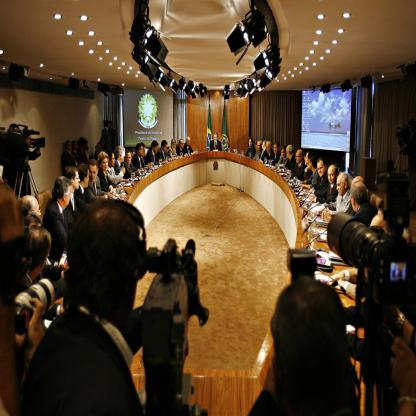face: (370, 219, 383, 242), (33, 202, 43, 226), (74, 172, 82, 191), (337, 178, 345, 196), (65, 187, 72, 204), (318, 162, 325, 177), (90, 167, 97, 182), (352, 194, 358, 211), (329, 170, 336, 184), (85, 172, 91, 188), (102, 159, 109, 172), (126, 154, 132, 165), (111, 155, 116, 167), (305, 155, 310, 166), (297, 153, 302, 164), (274, 145, 279, 154), (142, 148, 147, 157), (120, 153, 125, 162), (140, 147, 144, 156), (69, 143, 73, 151), (282, 150, 286, 158), (267, 145, 271, 153), (311, 160, 314, 170), (181, 142, 185, 149), (155, 146, 159, 153), (287, 150, 290, 159), (75, 143, 79, 149), (259, 143, 262, 151), (188, 139, 191, 147), (102, 140, 106, 146), (215, 135, 218, 142), (263, 142, 266, 149), (173, 143, 176, 150), (250, 141, 253, 147), (397, 265, 400, 271), (165, 146, 168, 152), (110, 123, 113, 128)
